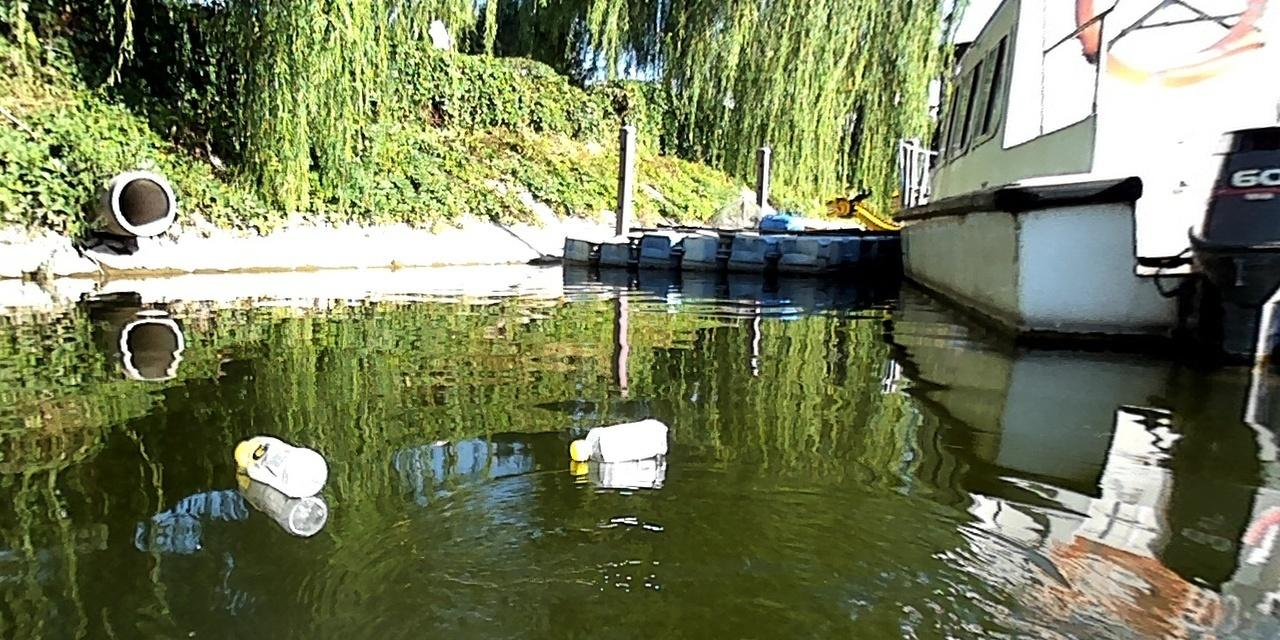bottle: (232, 437, 326, 495), (566, 416, 666, 463)
